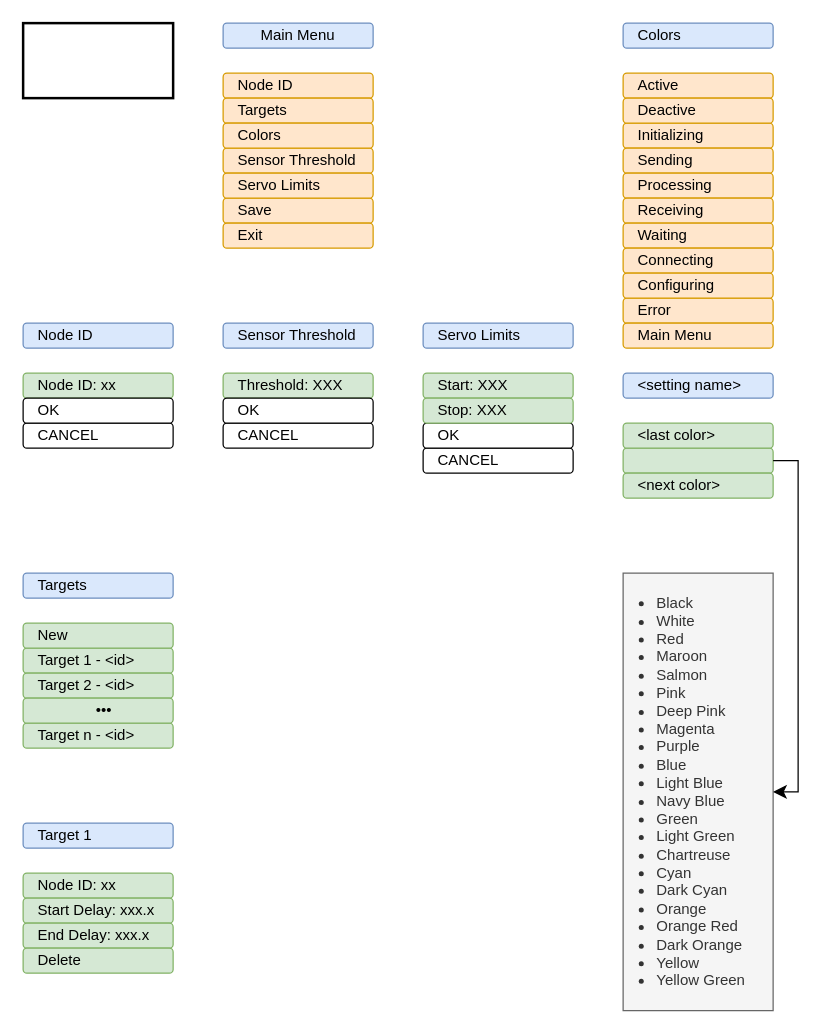
Some shapes in this 833 by 1033 pixel diagram are drawn without their labels. Each missing label, with the centre of its shape:
"7 Rows 21 Characters" goes at [97,60].
"<highlighted color>" goes at [697,460].
